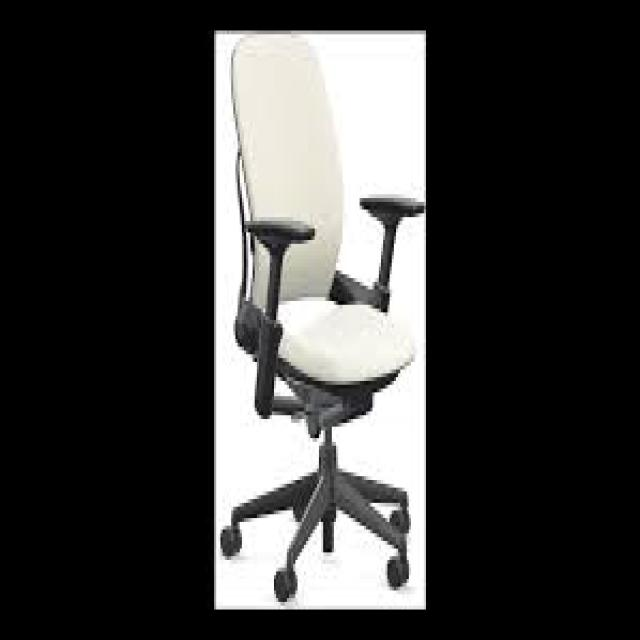chair: (196, 30, 429, 614)
